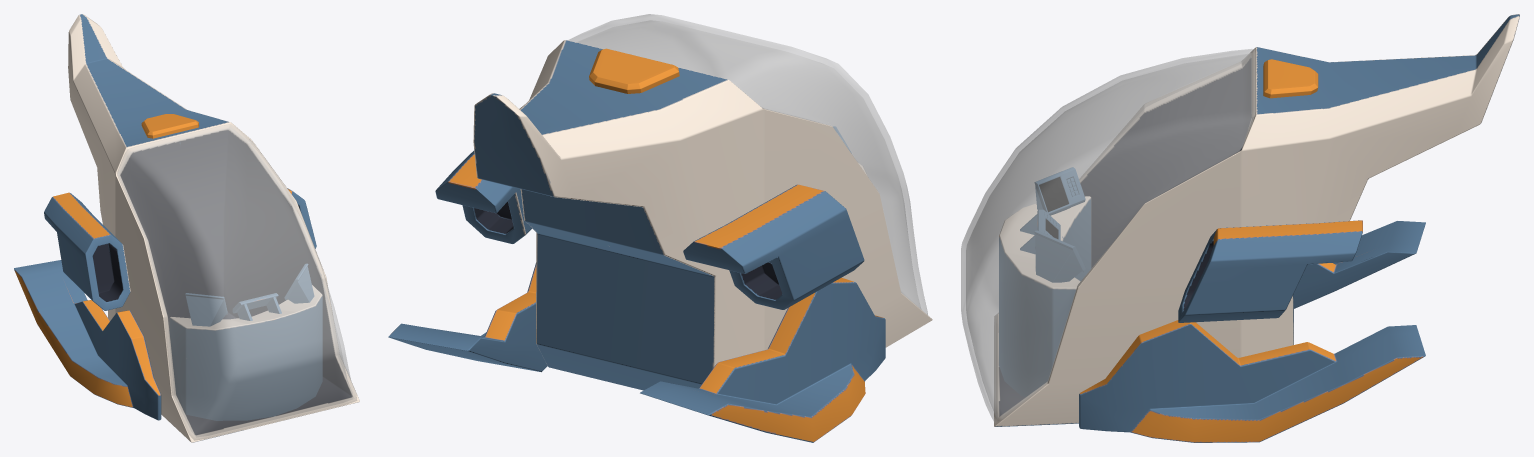
Rendered from SubmarineTextured.fbx.
The picture shows the model from 3 angles, left to right: view 1: azimuth 30°, elevation 25°; view 2: azimuth 150°, elevation 25°; view 3: azimuth 270°, elevation 25°; orthographic projection. The views are drawn at different scales.
Parts seen in each view (by area): view 1: Body_Main, Glass; view 2: Body_Main, Glass; view 3: Body_Main, Glass, Screen.
Part boxes in pixels (<box>): Body_Main: <box>14,14,359,442</box>; Glass: <box>117,124,356,440</box>; Body_Main: <box>388,40,932,442</box>; Glass: <box>568,14,927,314</box>; Body_Main: <box>994,14,1519,442</box>; Glass: <box>961,49,1254,422</box>; Screen: <box>1039,177,1068,238</box>.
Size of the model in its own units: 225 by 255 by 360.
